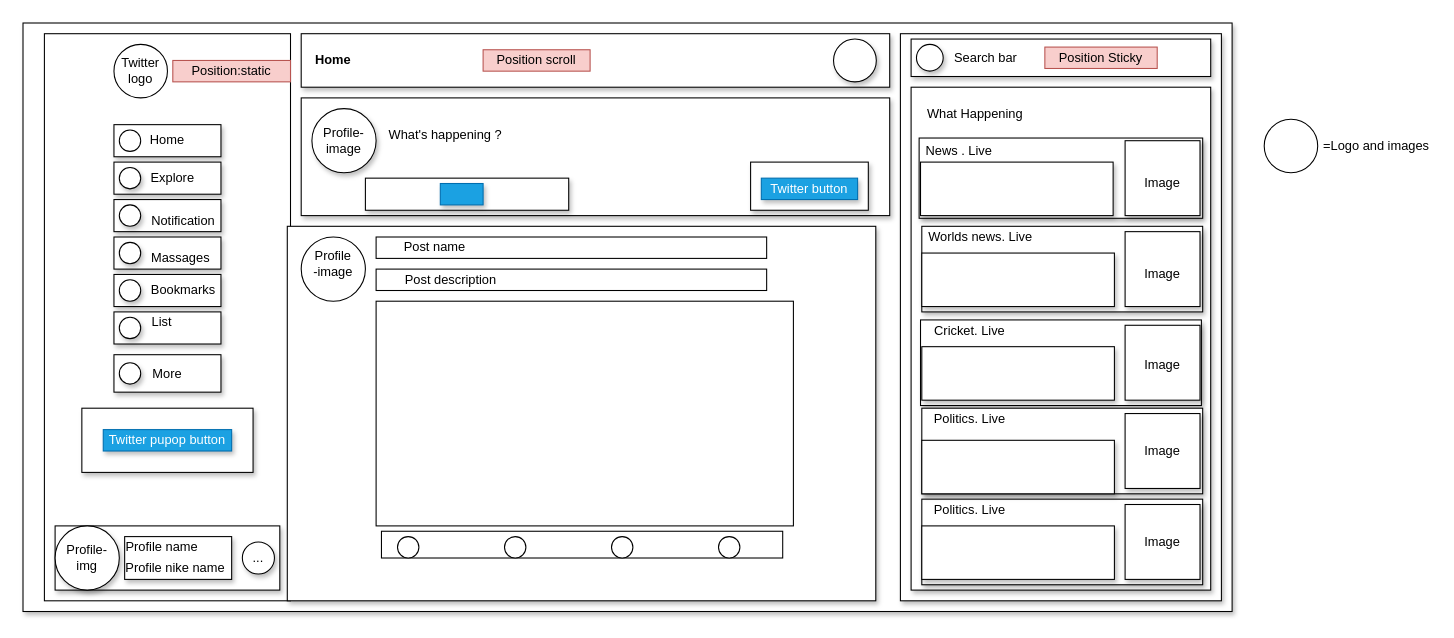
Image size: 1454x638. Some labels were removed from this diagram. Here are the shapes that lost their labels. From the top down, the centre of each, then its label:
(855,61): Logo
(462,195): Icons
(584,413): Post image or video
